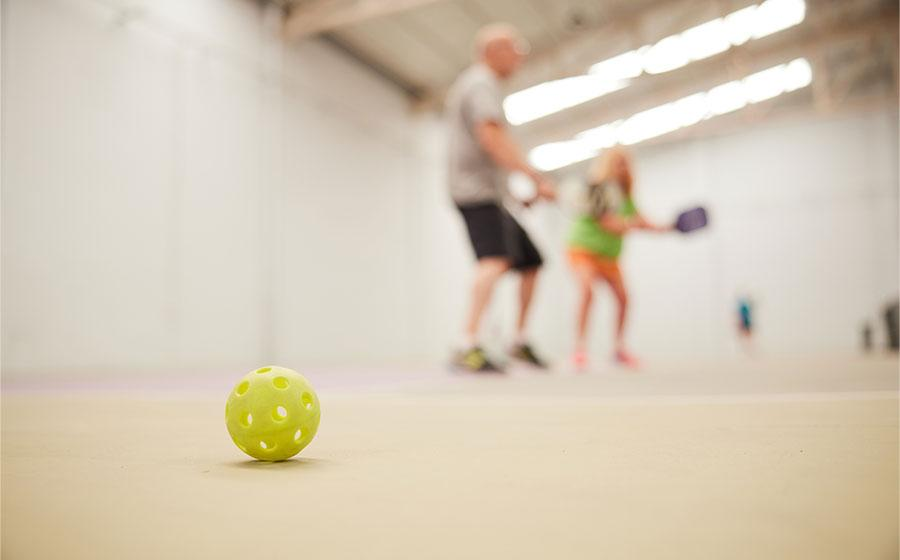ball: (219, 363, 326, 467)
